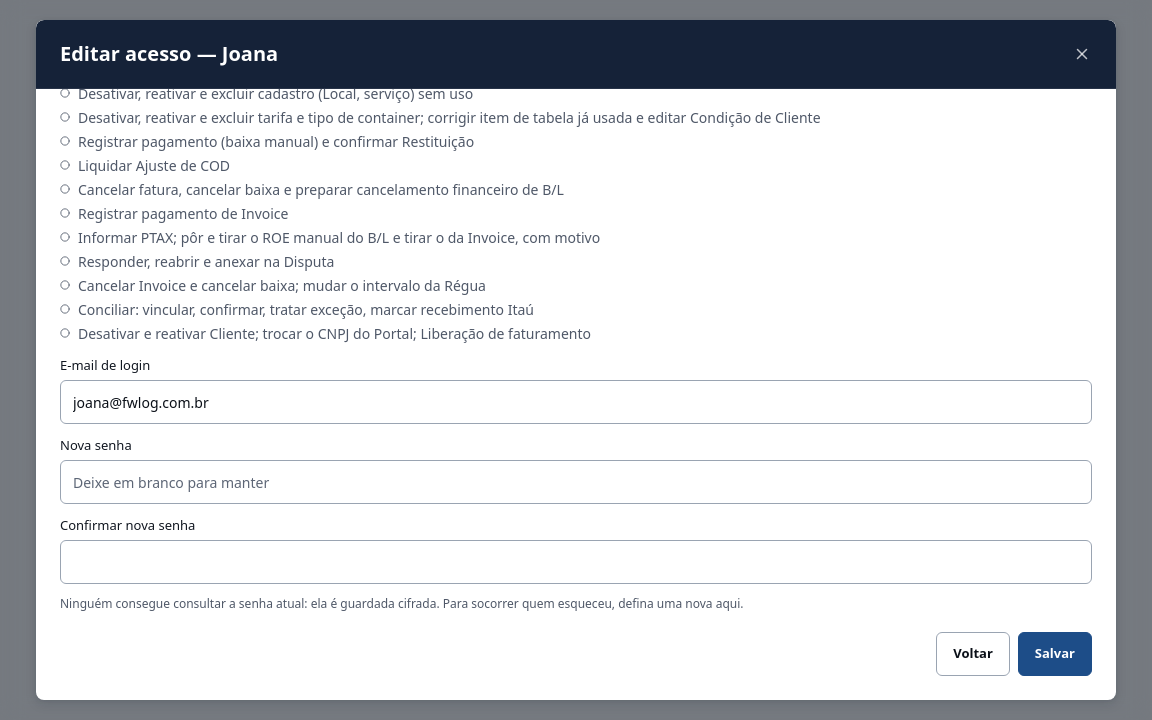
Scenario: Documentação gravada: salvar sem mudança pede o que trocar
The image size is (1152, 720).
(page scrolled)
Click the button "Salvar".
click(1055, 654)  # box [1018, 632, 1092, 676]
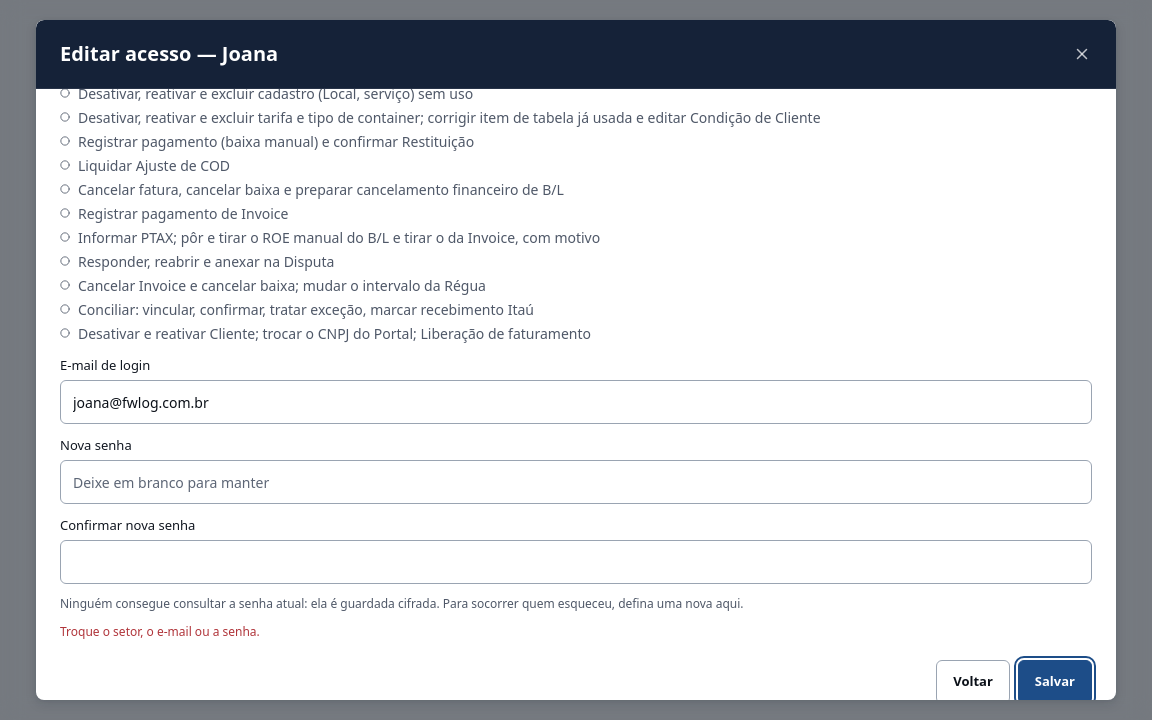
expect the message reads "Troque o setor, o e-mail ou a senha.": met, box [60, 623, 260, 640]
